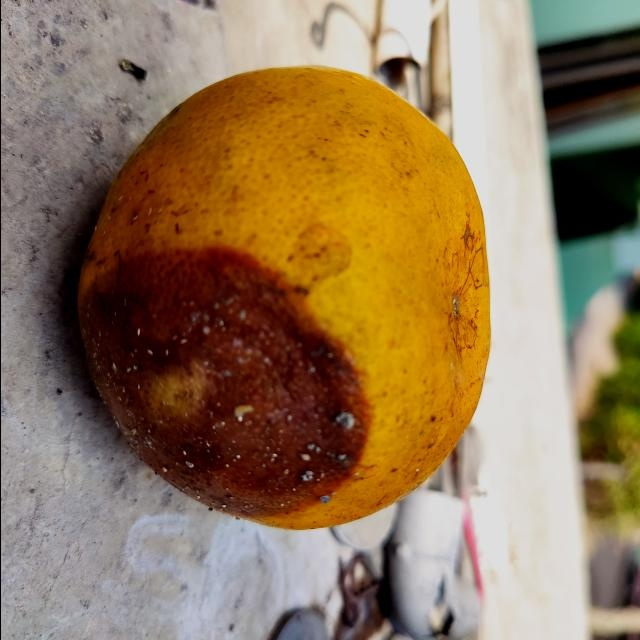agrume: (67, 65, 493, 531)
